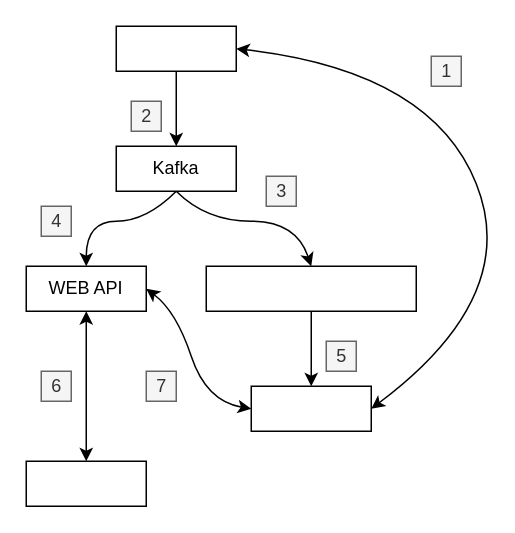
Some shapes in this 515 by 533 pixel diagram are drawn without their labels. The shapes that lost their labels are listed below. From the top down, each one's centre as x and y in pixels, then its label:
[175,48]: Producer
[310,288]: Kafka-Postgres bridge
[310,408]: Postgres
[85,483]: Frontend
